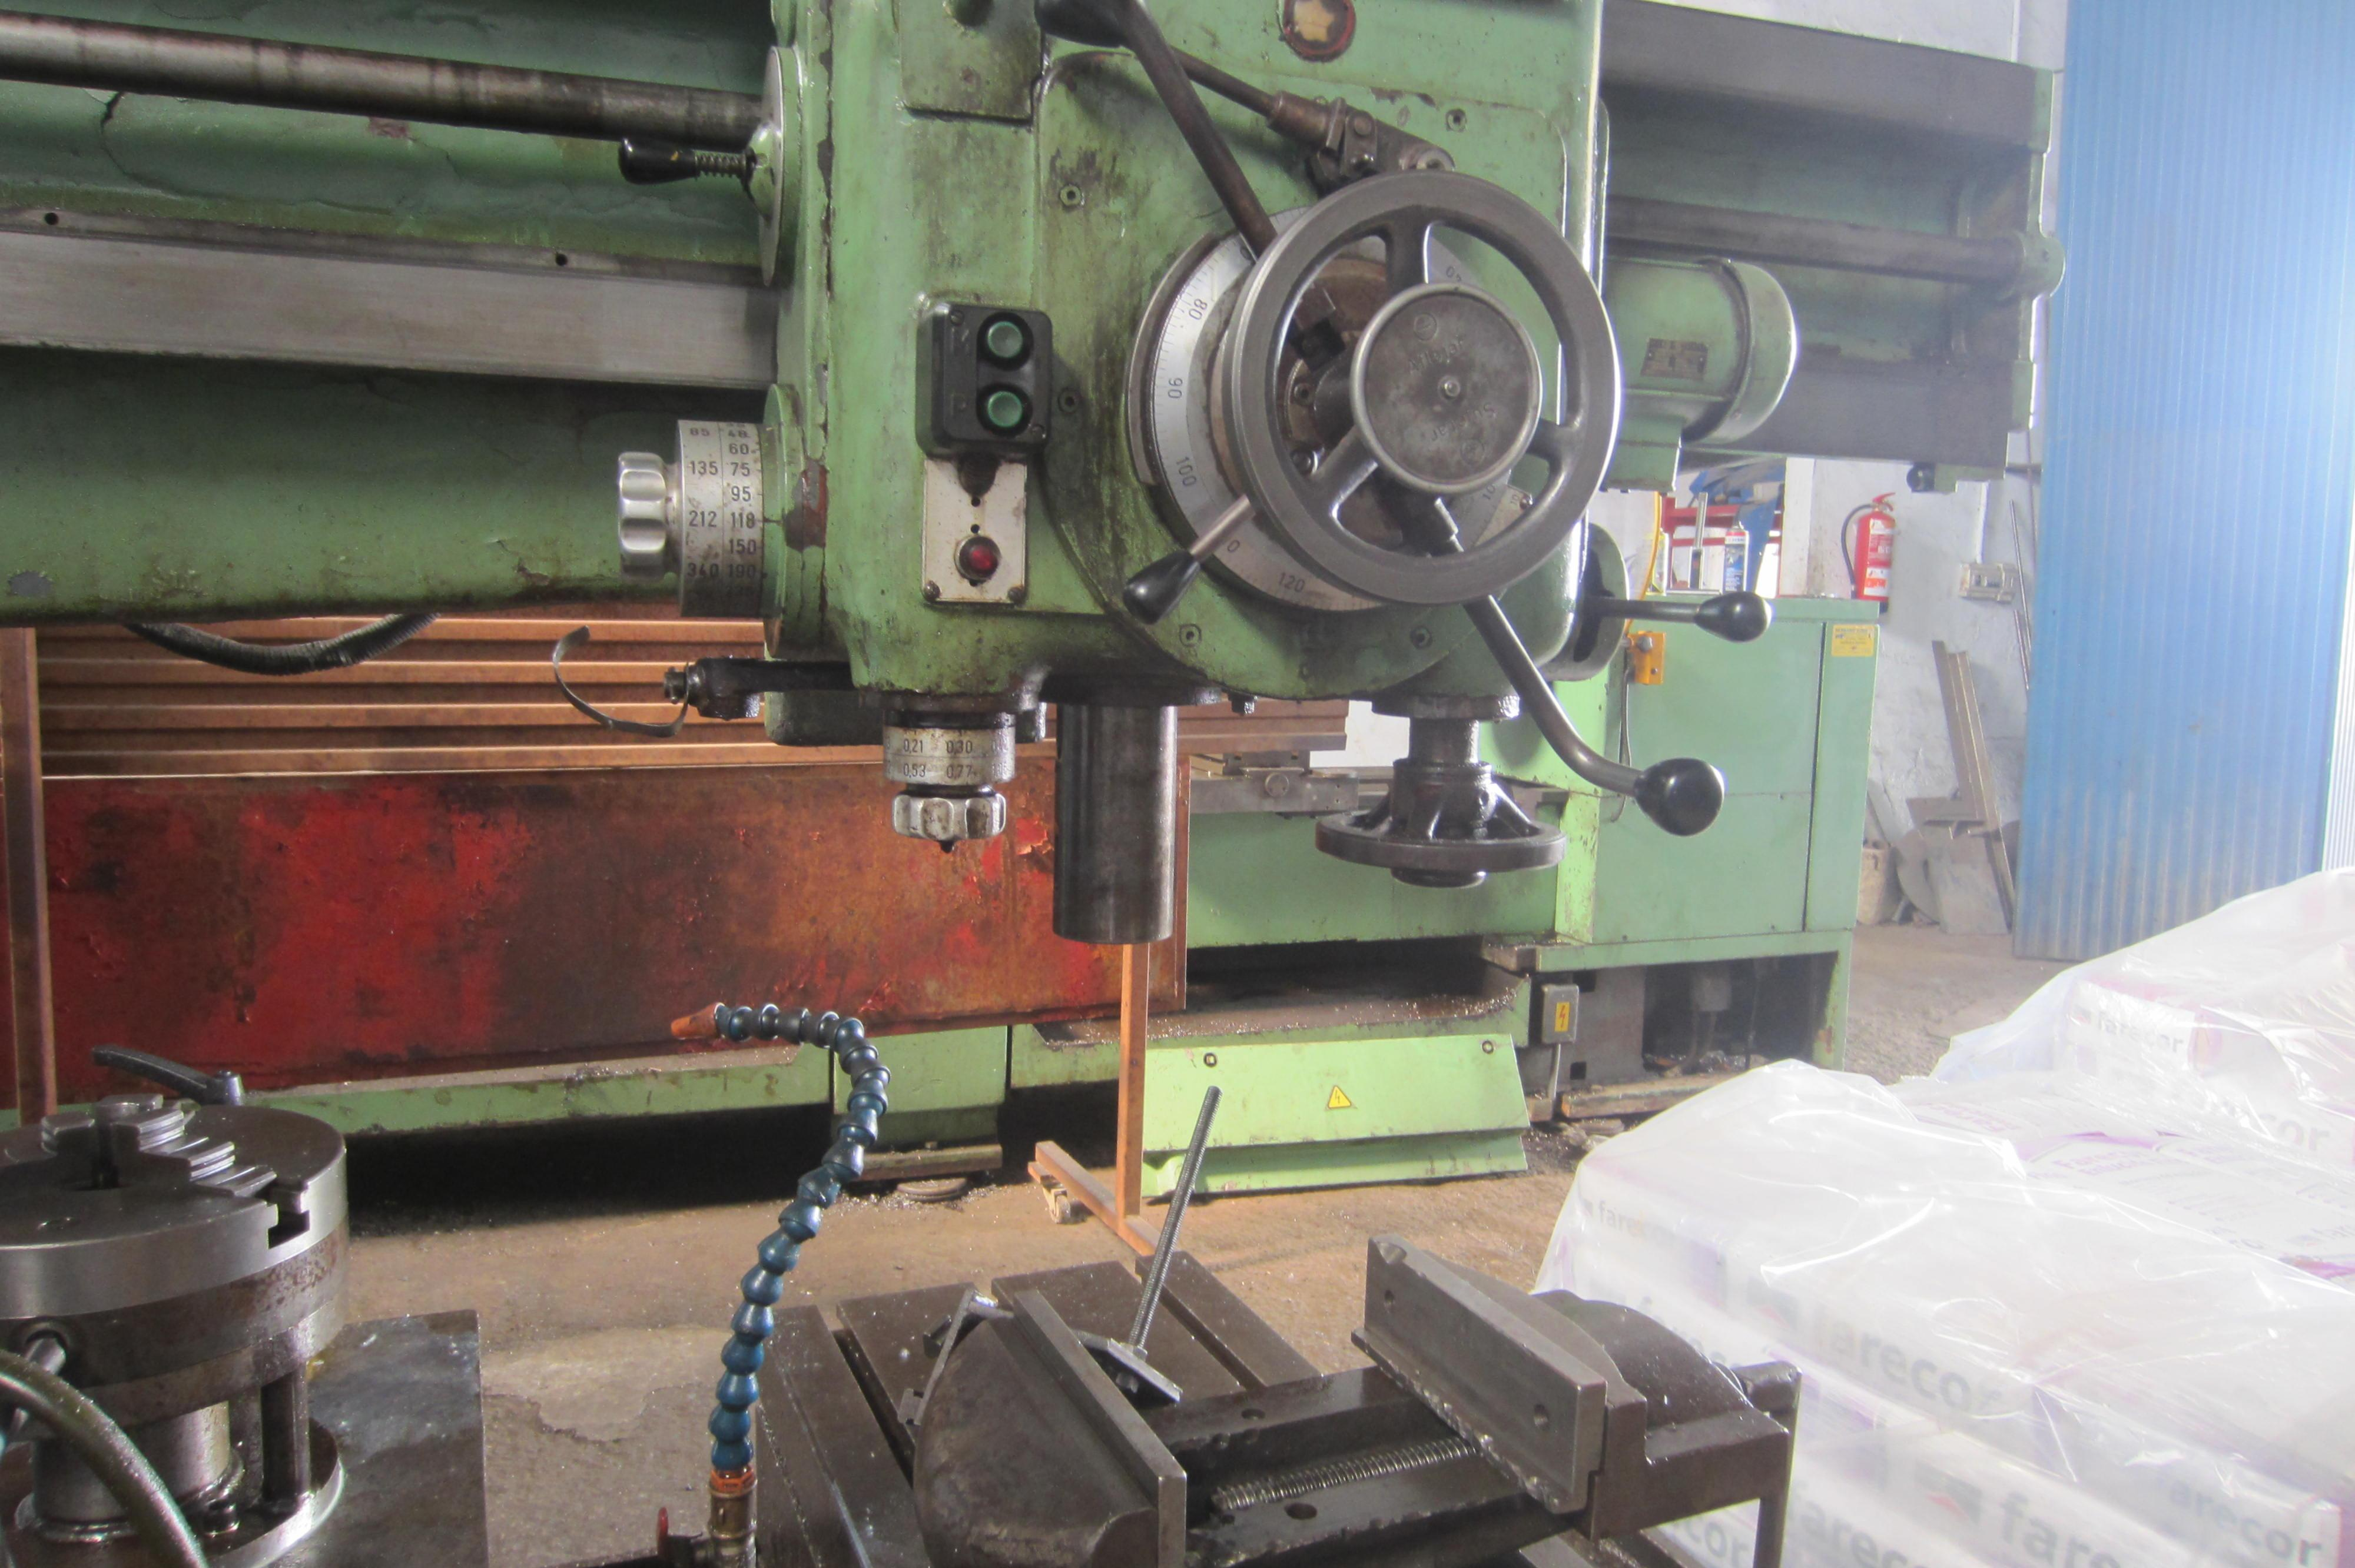falta_resguardo: (1055, 675, 1176, 962)
mandos_inseguros: (915, 276, 1066, 469)
sin_senalizacion_riesgos: (1449, 17, 1582, 150)
